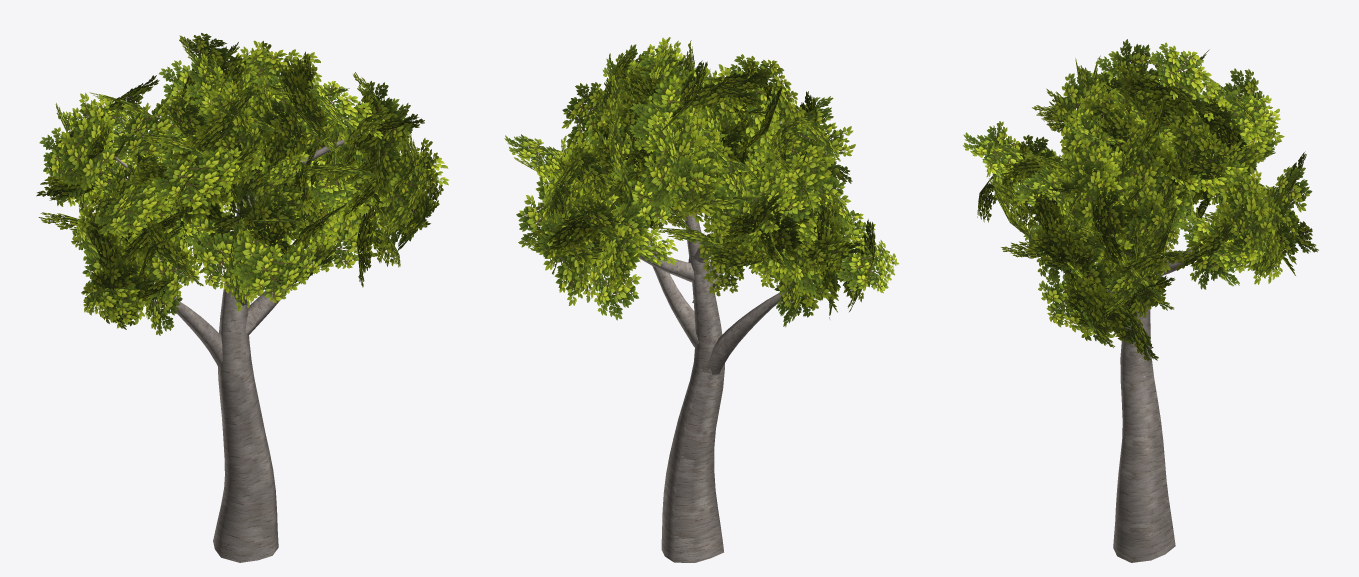
Rendered from cincis-beech-prototype.glb.
3 views of the same model, side by side, from view 1: azimuth 30°, elevation 25°; view 2: azimuth 150°, elevation 25°; view 3: azimuth 270°, elevation 25° (orthographic). The views are drawn at different scales.
Parts seen in each view (by area): view 1: Foliage, Trunk and branches; view 2: Foliage, Trunk and branches; view 3: Foliage, Trunk and branches.
Boxes of the visible parts, x1,y1,x2,y2 form: Foliage: [36, 33, 449, 335]; Trunk and branches: [114, 130, 374, 562]; Foliage: [504, 37, 898, 327]; Trunk and branches: [603, 213, 804, 562]; Foliage: [963, 39, 1318, 361]; Trunk and branches: [1024, 185, 1197, 562].
Size of the model in its own units: 6.68 by 8.66 by 6.02.
Materials: 2 (2 with a texture image).
